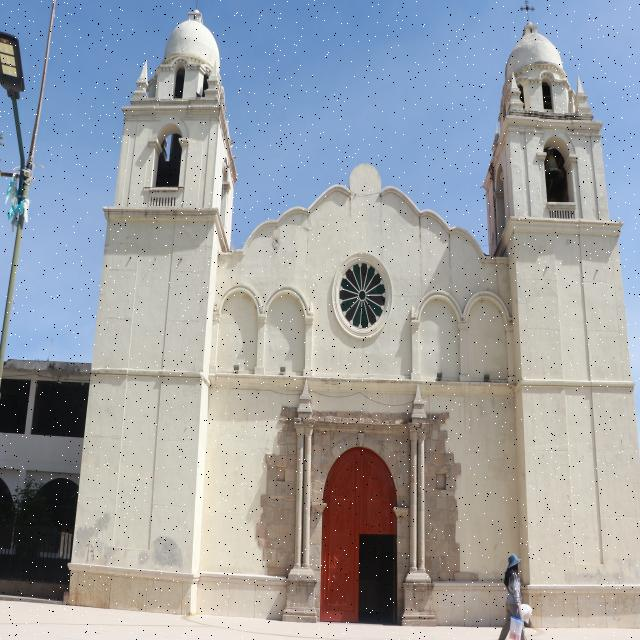CAMPANARIO: (490, 116, 624, 237), (99, 106, 233, 225)
CUPULA: (496, 11, 586, 117), (134, 5, 230, 100)
PORTADA CENTRAL: (293, 396, 445, 628)
SIMETRIA COLONIAL: (73, 0, 640, 629)
TORRES: (68, 0, 244, 606), (475, 0, 640, 639)
colonial-architecture-: (6, 0, 640, 616)
